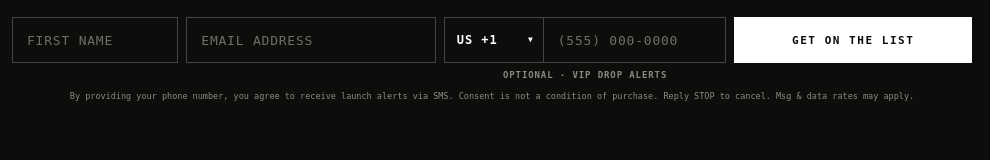
Test case: LeadForm › clears a field's error as soon as it is edited
The width and height of the screenshot is (990, 160).
Click the button "GET ON THE LIST" at x=853, y=40, box [734, 17, 972, 63]
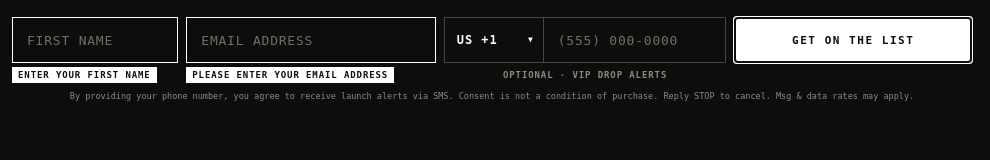
Expected: the text "ENTER YOUR FIRST NAME" is shown, [12, 67, 157, 83]
Type "J" into the field labelled "FIRST NAME" at x=95, y=40, box [12, 17, 178, 63]
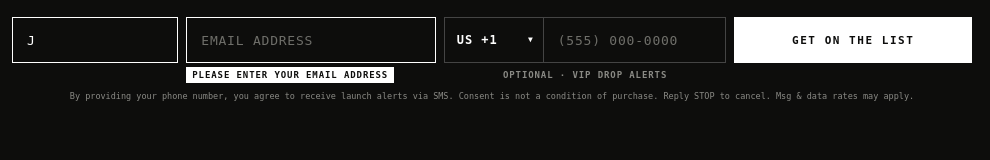
Expected: the text "PLEASE ENTER YOUR EMAIL ADDRESS" is shown, [186, 67, 394, 83]
Expected: the text "ENTER YOUR FIRST NAME" is gone
